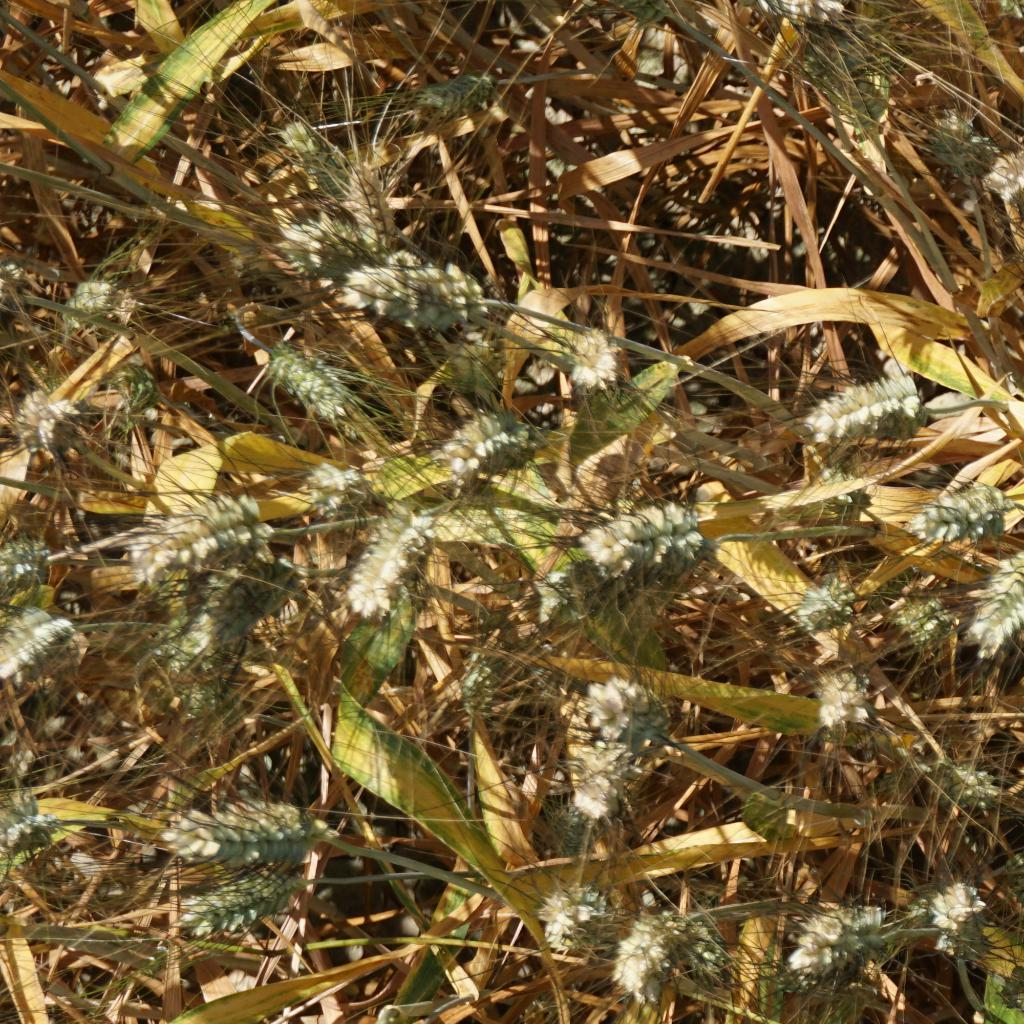0-0: (326, 499, 445, 624), (110, 498, 267, 577), (770, 892, 890, 994), (794, 365, 929, 452), (268, 108, 368, 216), (331, 257, 492, 322), (178, 859, 305, 935), (905, 474, 1024, 555), (253, 344, 372, 421), (160, 792, 317, 850), (577, 507, 707, 577), (556, 709, 635, 823), (961, 532, 1024, 663), (912, 103, 989, 203), (439, 407, 547, 472), (573, 679, 675, 747), (797, 659, 886, 736), (885, 581, 962, 669), (256, 203, 355, 271), (920, 867, 1001, 948), (386, 65, 493, 125), (607, 906, 672, 1004), (540, 873, 608, 960), (551, 331, 635, 396), (534, 563, 622, 624), (0, 611, 75, 680), (15, 375, 84, 449), (343, 158, 408, 235), (166, 660, 237, 728), (0, 789, 67, 852), (785, 570, 855, 630), (840, 64, 896, 138), (45, 269, 124, 320), (432, 331, 496, 388), (0, 534, 61, 592), (672, 916, 734, 973), (926, 766, 999, 812), (103, 353, 160, 408), (818, 468, 879, 519), (296, 455, 355, 507), (437, 656, 492, 707)
